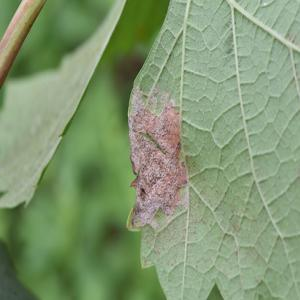Folha: (126, 0, 300, 299), (0, 0, 121, 226)
Fungo: (127, 84, 188, 230), (146, 85, 159, 115), (160, 89, 170, 108)
